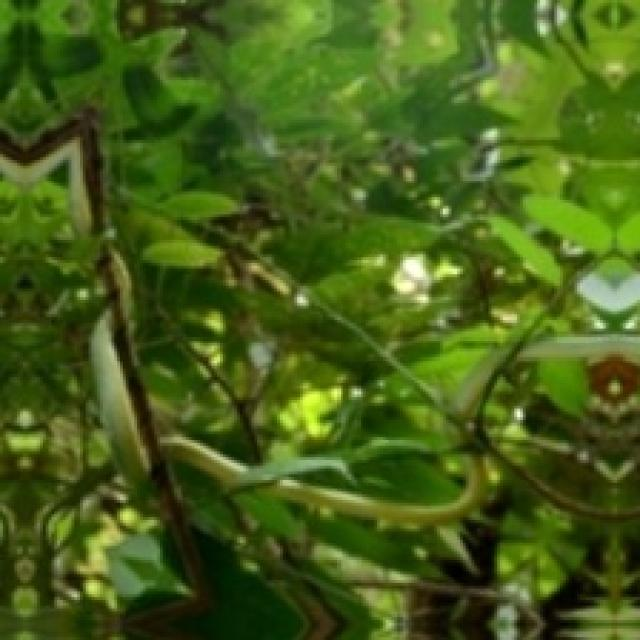red-tailed green ratsnake: (160, 434, 486, 526), (91, 311, 149, 480)
